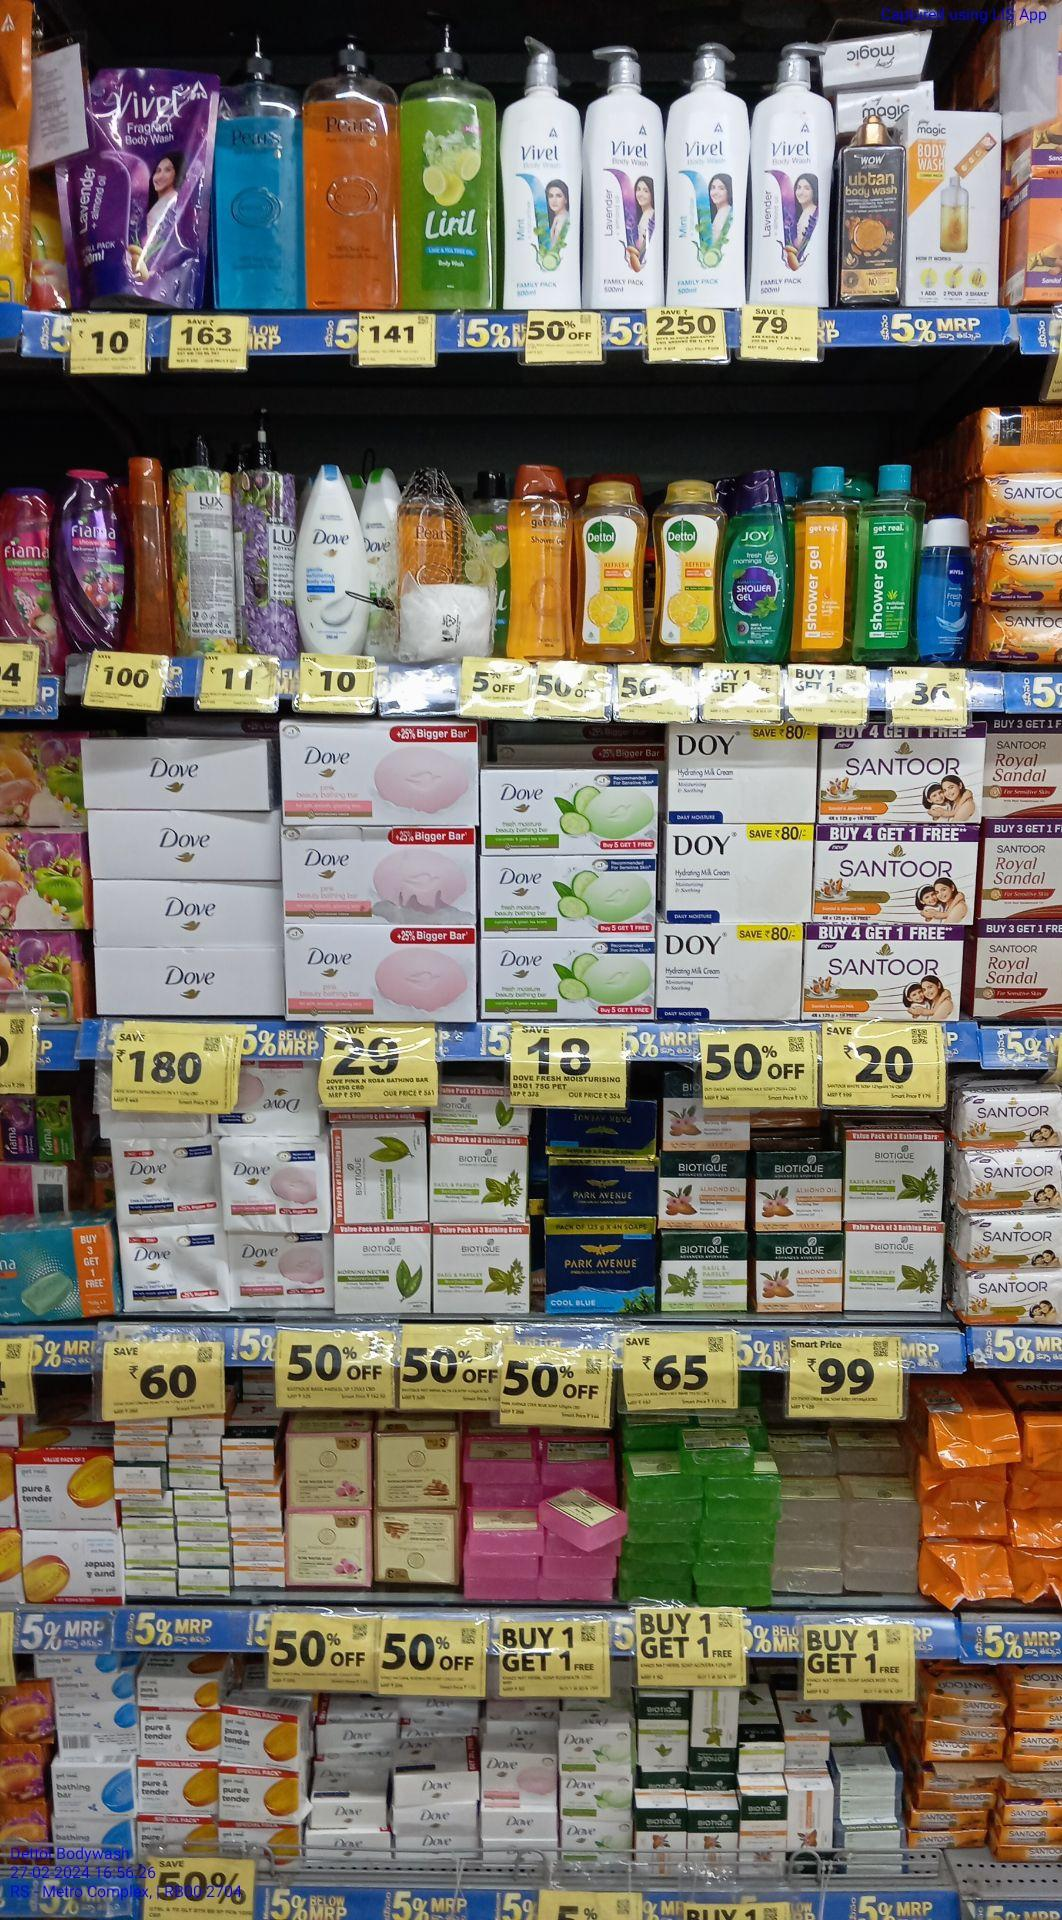Dettol_Bodywash_Refresh: (577, 476, 646, 660), (654, 481, 722, 664)
Dove_Gentle_Exfoliating_Body_Wash_250ML: (298, 459, 373, 657)
Get_Real_Shower_Gel_Moisturising_Glycerin_300ML: (513, 463, 570, 660)
Joy_Shower_Gel_Mint_and_Eucalyptus_250ML: (725, 462, 786, 662)
